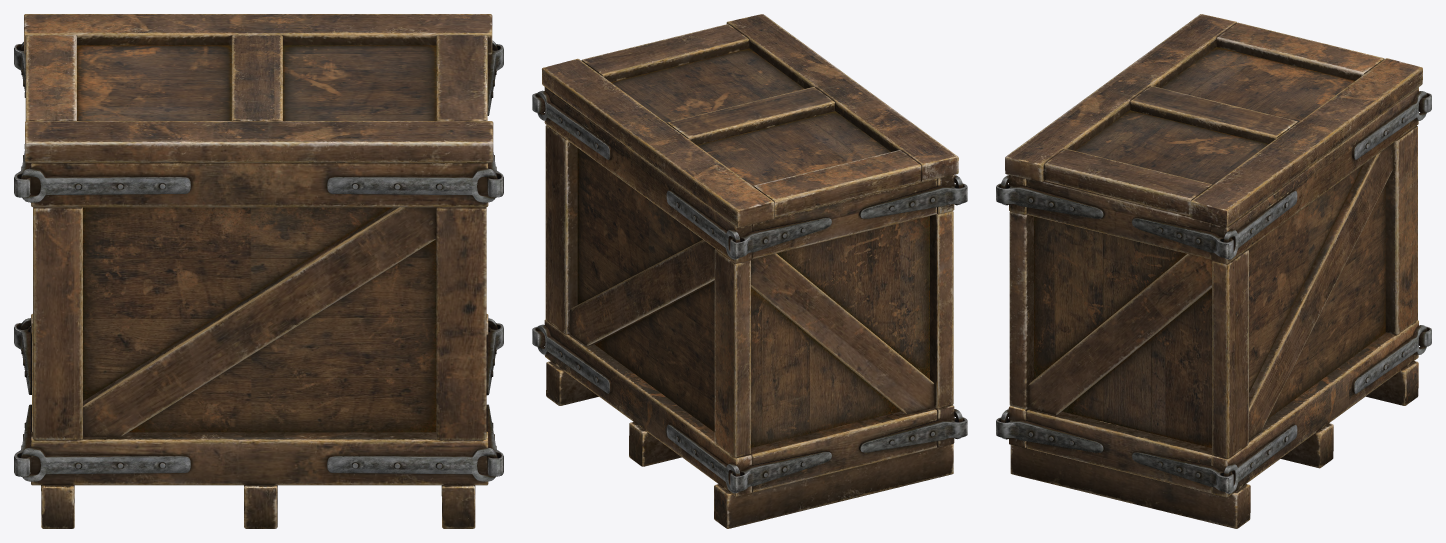
The model's file is BoxSteal.fbx.
3 renders of one model, left to right at view 1: azimuth 30°, elevation 25°; view 2: azimuth 150°, elevation 25°; view 3: azimuth 270°, elevation 25°, orthographic. The views are drawn at different scales.
Visible parts, largest first — view 1: prim0; view 2: prim0; view 3: prim0.
Part boxes in pixels (left/top/right/bottom): prim0: left=14, top=14, right=503, bottom=528; prim0: left=532, top=14, right=967, bottom=528; prim0: left=996, top=14, right=1431, bottom=528.
Size of the model in its own units: 122 by 89.47 by 109.
